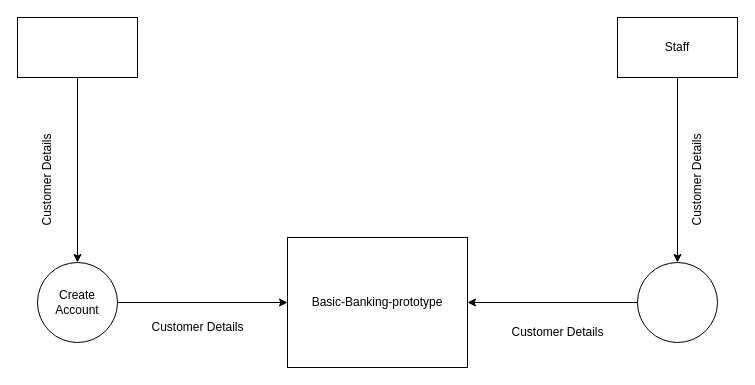
Image size: 755x385. Some labels were removed from this diagram. The shapes that lost their labels are listed below. From the top down, each one's centre as x and y in pixels, then its label:
At point (77, 47): "Customer".
At point (677, 302): "Approve".
